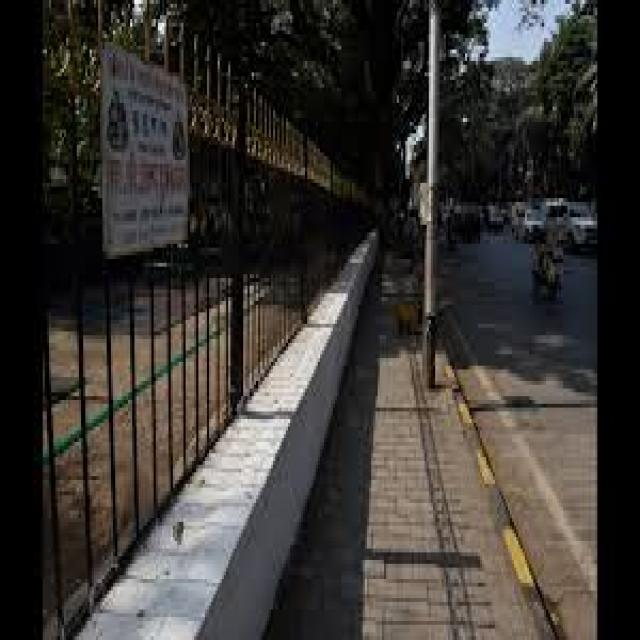electric pole ahead at: (415, 2, 445, 399)
